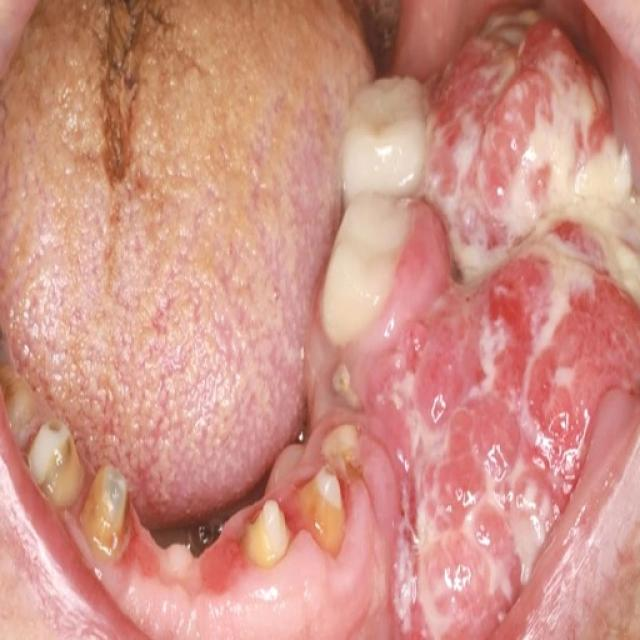leukoplakia-like-detection: (365, 6, 639, 639)
processing_area: (62, 2, 639, 639), (0, 0, 376, 598)
